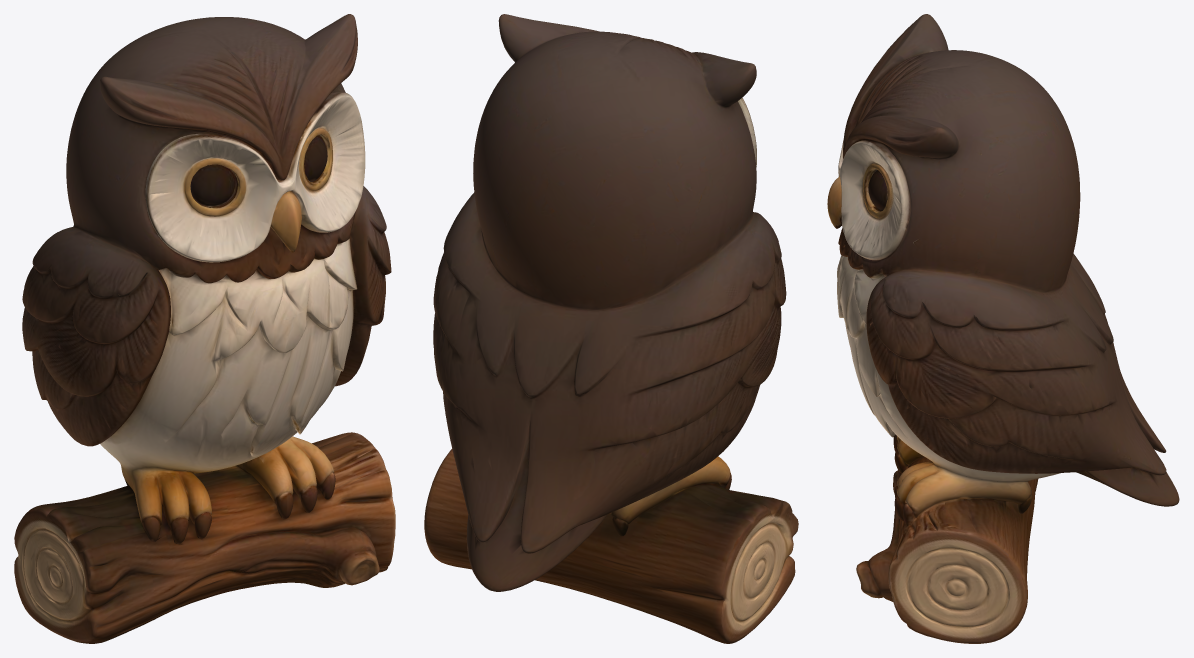
File: owl.glb
3 views of the same model, side by side, from view 1: azimuth 30°, elevation 25°; view 2: azimuth 150°, elevation 25°; view 3: azimuth 270°, elevation 25° (orthographic). The views are drawn at different scales.
Visible parts, largest first — view 1: node_0; view 2: node_0; view 3: node_0.
Part boxes in pixels (x1,y1,x2,y2): node_0: (14,14,395,643); node_0: (424,14,798,643); node_0: (827,14,1179,643).
Bounding box in the file's own units: 0.6211 × 1.04 × 0.6529.
Materials: 1 (1 with a texture image).
